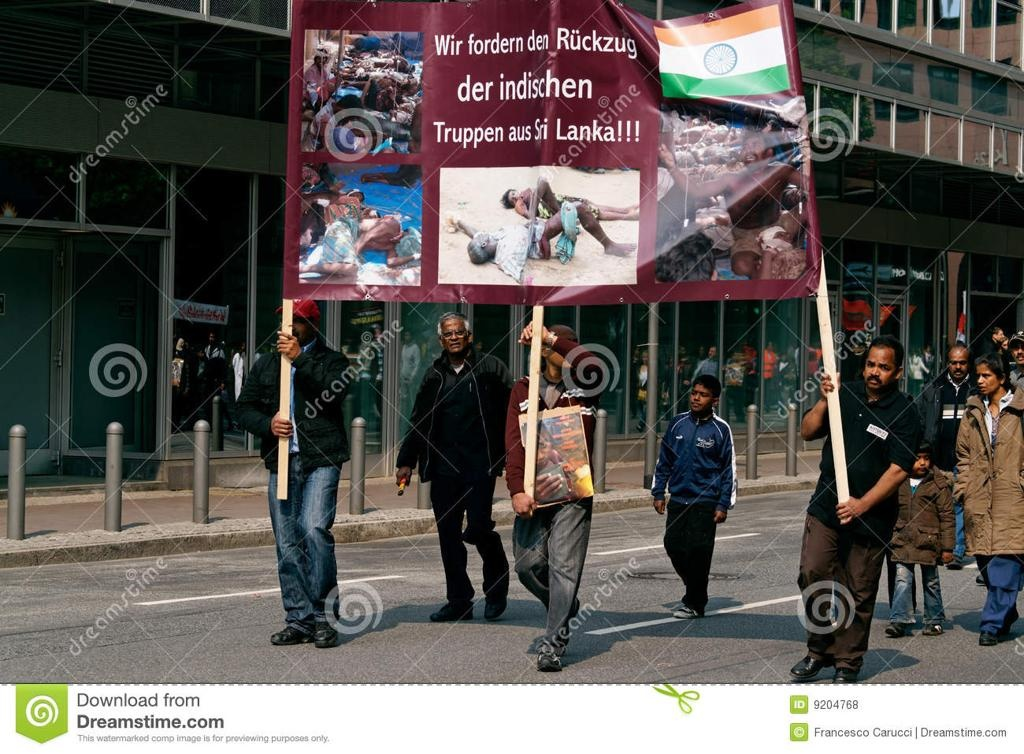human_face: (864, 344, 894, 390), (277, 312, 311, 346), (547, 336, 577, 368), (443, 318, 467, 352), (974, 364, 998, 392), (740, 137, 764, 165), (689, 381, 711, 410), (948, 348, 966, 378), (910, 451, 930, 474), (1010, 340, 1024, 364), (470, 231, 488, 247), (773, 230, 789, 246), (506, 190, 522, 204), (680, 357, 692, 375), (992, 327, 1002, 341), (998, 336, 1008, 348), (348, 193, 362, 201), (316, 53, 324, 66), (404, 331, 412, 343), (692, 132, 700, 142), (641, 353, 649, 363), (706, 348, 716, 356), (704, 136, 712, 146), (208, 334, 216, 342), (176, 338, 184, 346), (698, 346, 704, 356), (766, 340, 772, 350), (780, 352, 786, 362), (240, 342, 246, 352), (714, 135, 720, 143), (373, 328, 379, 336)
